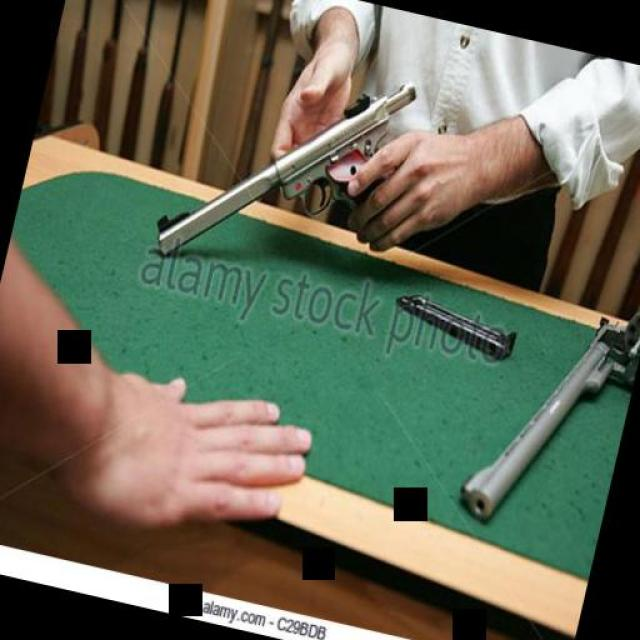gun: (138, 16, 472, 326), (445, 214, 640, 545)
